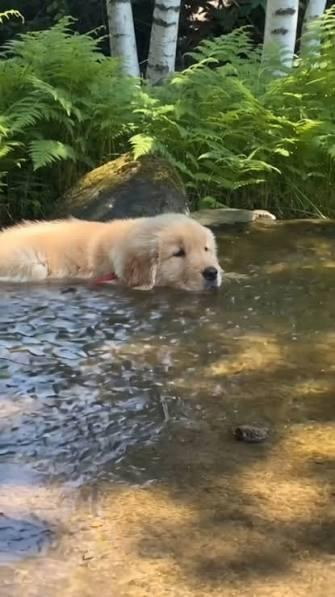puppy-dog: (0, 213, 223, 294)
